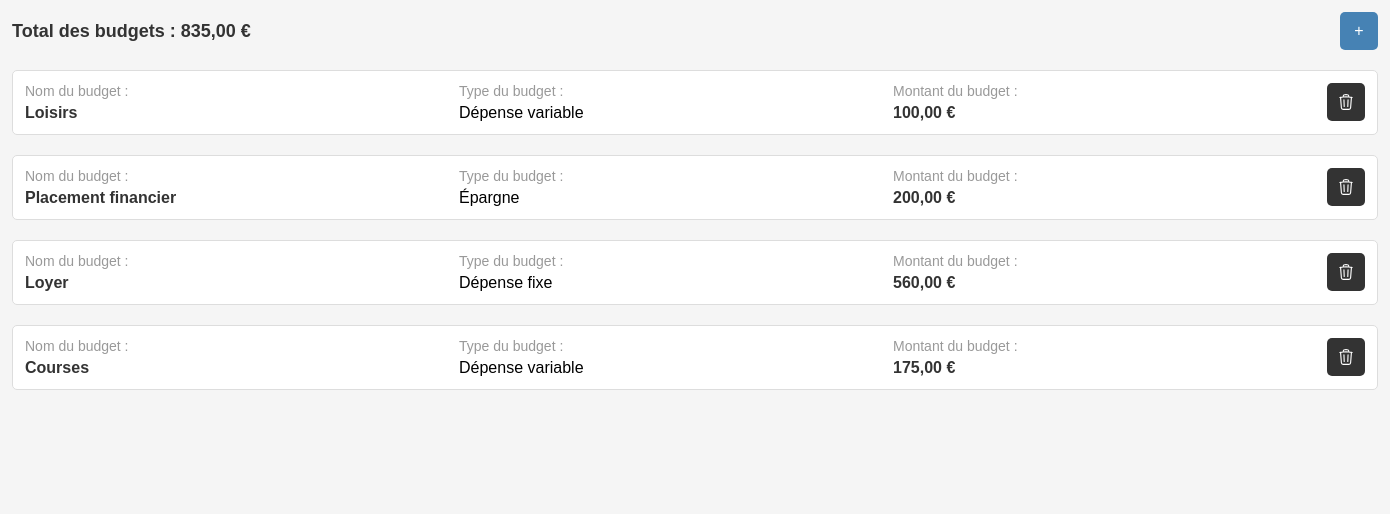
Scenario: <BudgetsManagement /> › should add budget
expect the text "Nom :" is not shown: met
expect the text "Budget test" is not shown: met
Click the button "+" at (1359, 31), box [1340,12,1378,50]
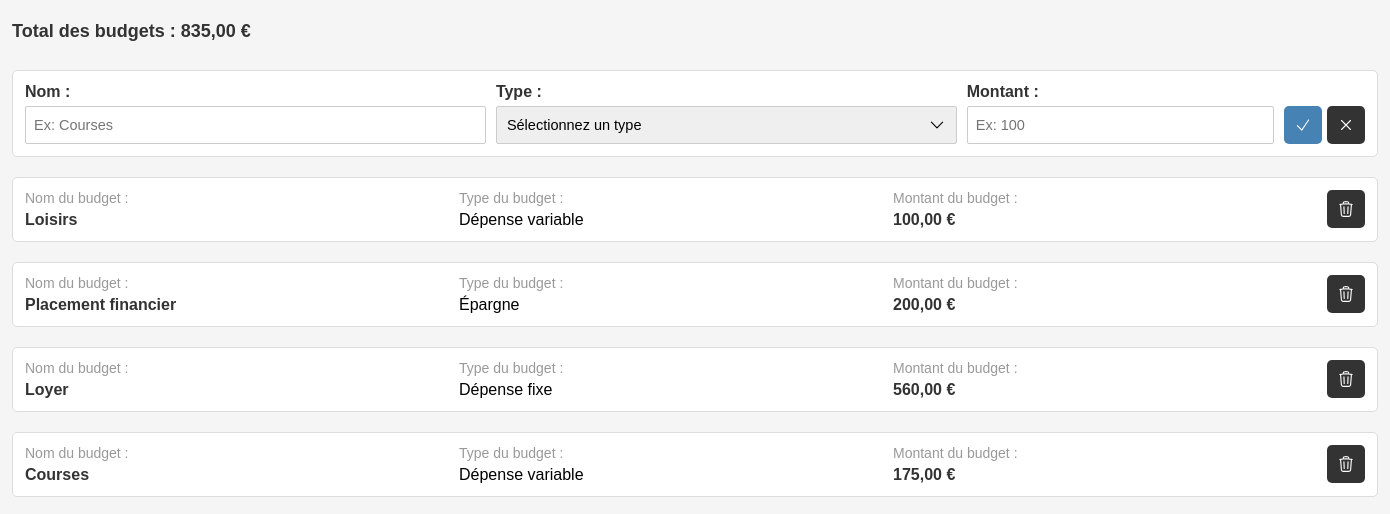
expect the text "Nom :" is shown: met, box [25,83,70,100]
Type "Budget test" into the field at (255, 125), box [25,106,486,144]
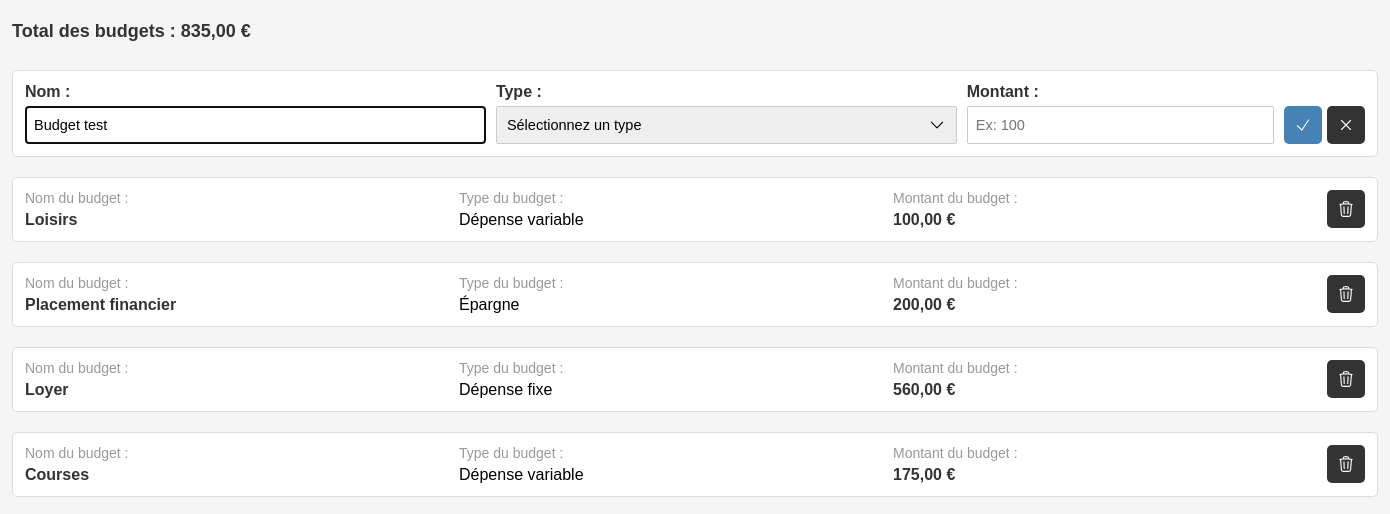
Select "Dépense fixe" in the dropdown at (726, 125), box [496,106,957,144]
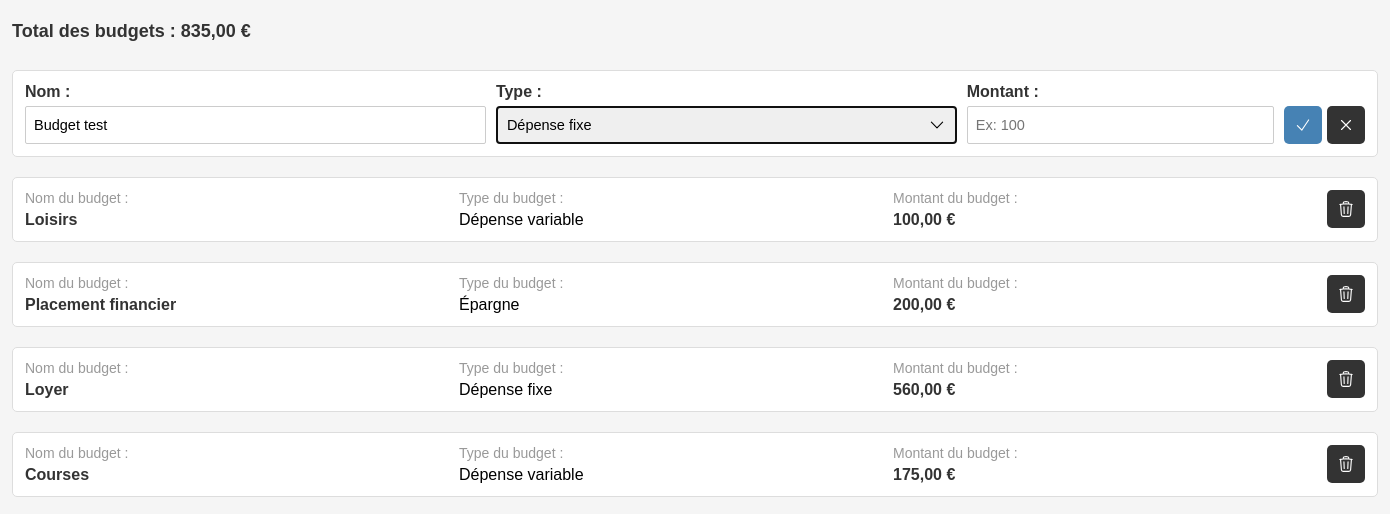
Type "7" into the number field at (1120, 125), box [967,106,1274,144]
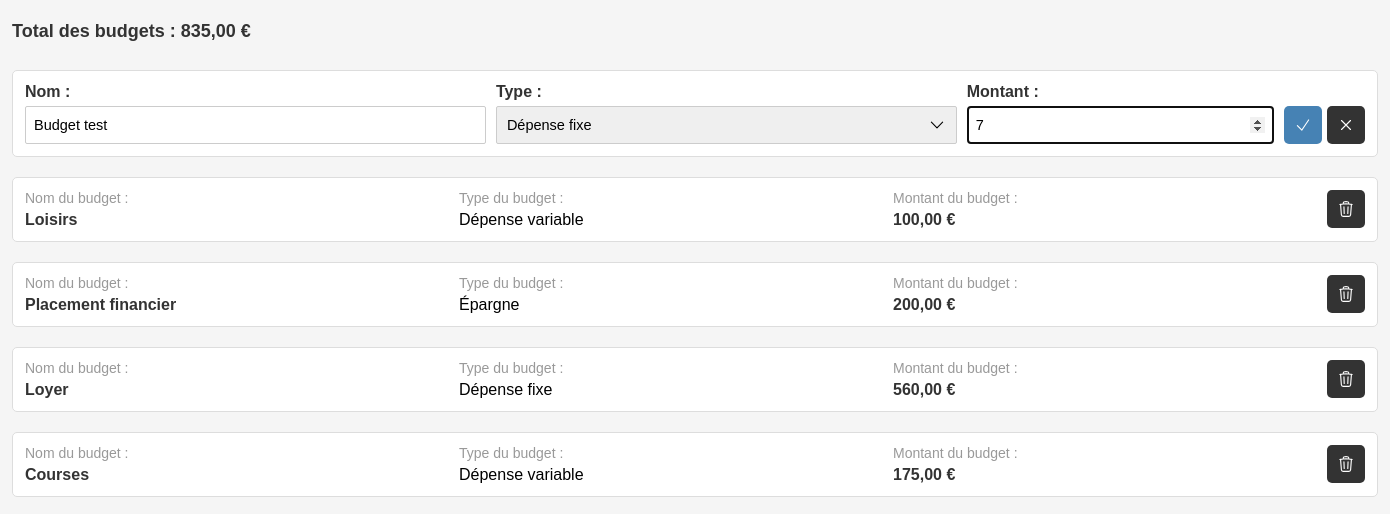
Click the 1st button at (1303, 125), box [1284,106,1322,144]
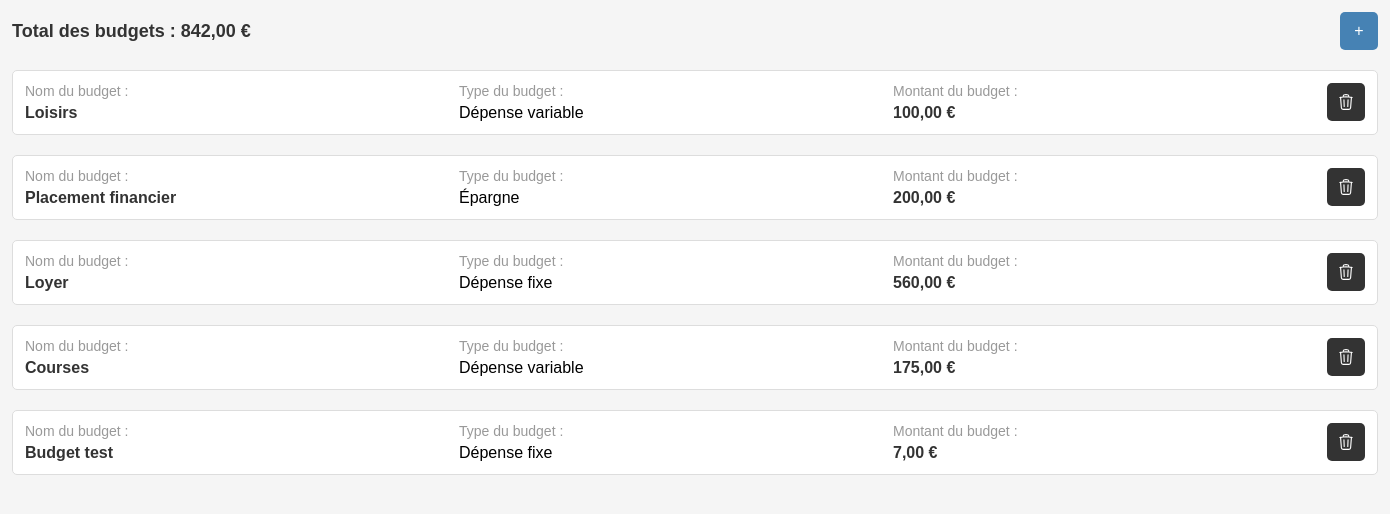
expect the text "Budget test" is shown: met, box [25,444,113,461]
expect the text "7,00 €" is shown: met, box [893,444,938,461]
